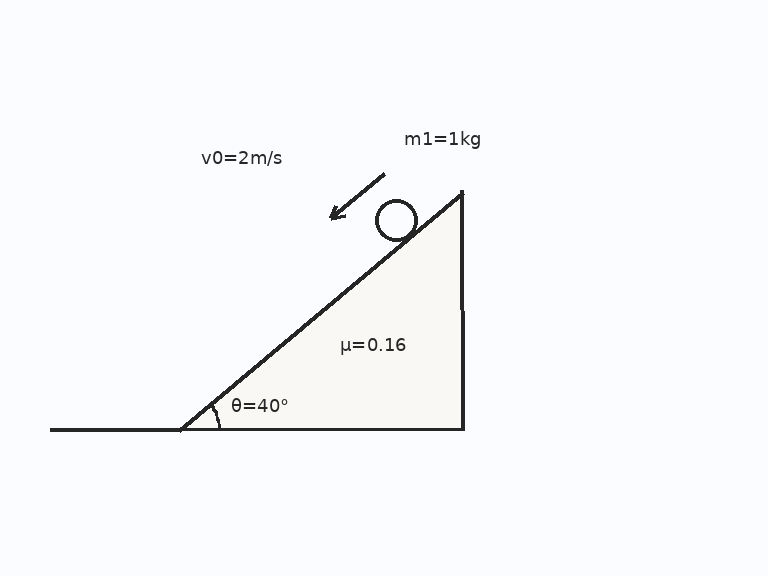ball: (373, 197, 419, 243)
ramp: (177, 189, 464, 431)
